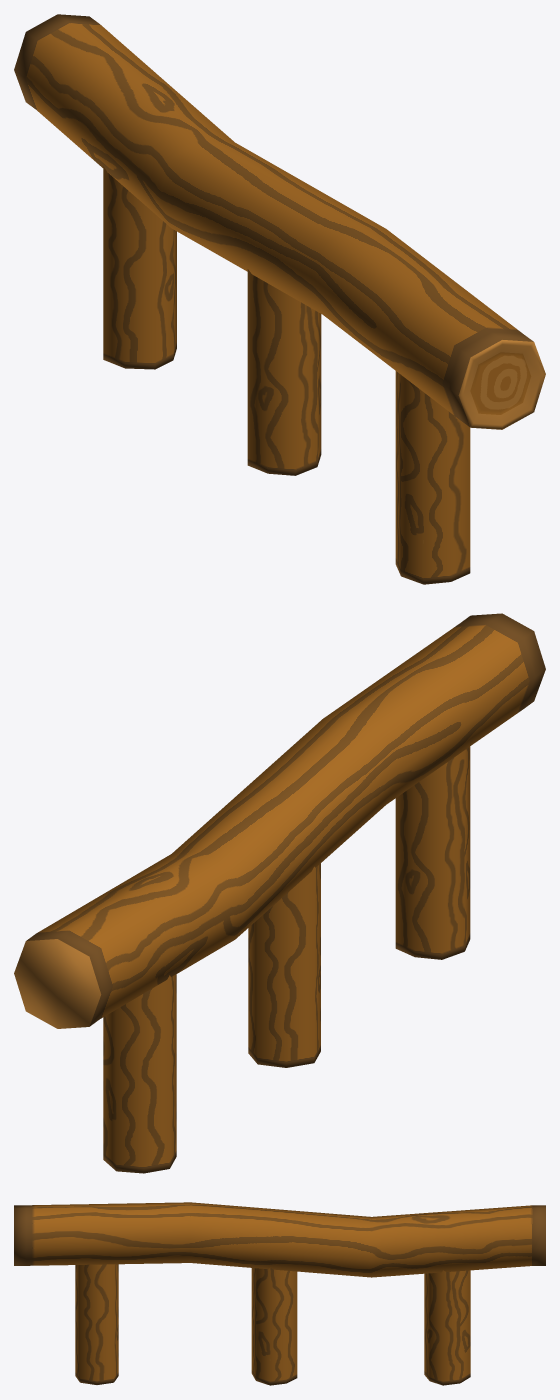
File: bruckesteg.fbx
3 renders of one model, top to bottom at view 1: azimuth 30°, elevation 25°; view 2: azimuth 150°, elevation 25°; view 3: azimuth 270°, elevation 25°, orthographic. The views are drawn at different scales.
Parts seen in each view (by area): view 1: Zaunpfahl.002, Zaunpfahl.005, Zaunpfahl.004, Zaunpfahl; view 2: Zaunpfahl.002, Zaunpfahl.005, Zaunpfahl, Zaunpfahl.004; view 3: Zaunpfahl.002, Zaunpfahl.004, Zaunpfahl.005, Zaunpfahl.
Boxes of the visible parts, x1,y1,x2,y2 form: Zaunpfahl.002: [14, 14, 545, 429]; Zaunpfahl.005: [395, 371, 470, 584]; Zaunpfahl.004: [247, 269, 321, 475]; Zaunpfahl: [103, 166, 176, 369]; Zaunpfahl.002: [14, 613, 545, 1028]; Zaunpfahl.005: [395, 746, 470, 959]; Zaunpfahl: [103, 974, 176, 1173]; Zaunpfahl.004: [248, 863, 320, 1067]; Zaunpfahl.002: [14, 1202, 545, 1277]; Zaunpfahl.004: [251, 1267, 297, 1385]; Zaunpfahl.005: [75, 1264, 118, 1384]; Zaunpfahl: [424, 1270, 470, 1385].
Bounding box in the file's own units: 143 × 1262 × 445.
